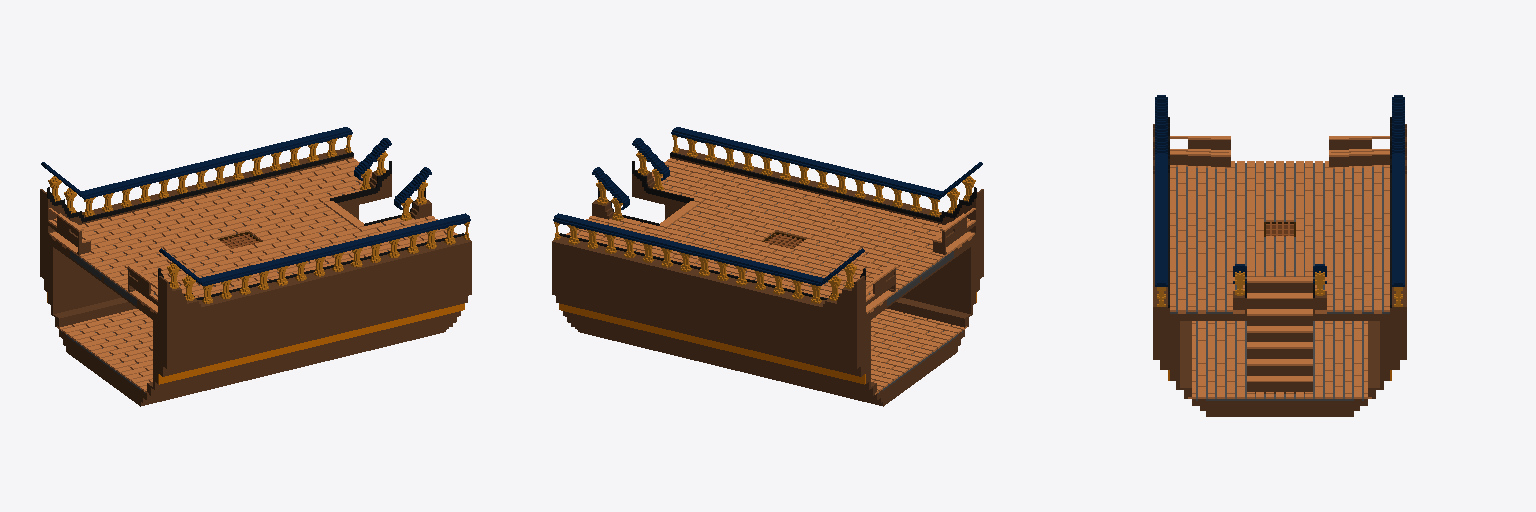
3 renders of one model, left to right at view 1: azimuth 30°, elevation 25°; view 2: azimuth 150°, elevation 25°; view 3: azimuth 270°, elevation 25°, orthographic.
Visible parts, largest first — view 1: object 1; view 2: object 1; view 3: object 1.
Part boxes in pixels (x1,y1,x2,y2): object 1: (40,127,471,406); object 1: (552,127,983,406); object 1: (1153,95,1406,416).
Bounding box in the file's own units: 18 × 9.7 × 13.
Materials: 1 (1 with a texture image).